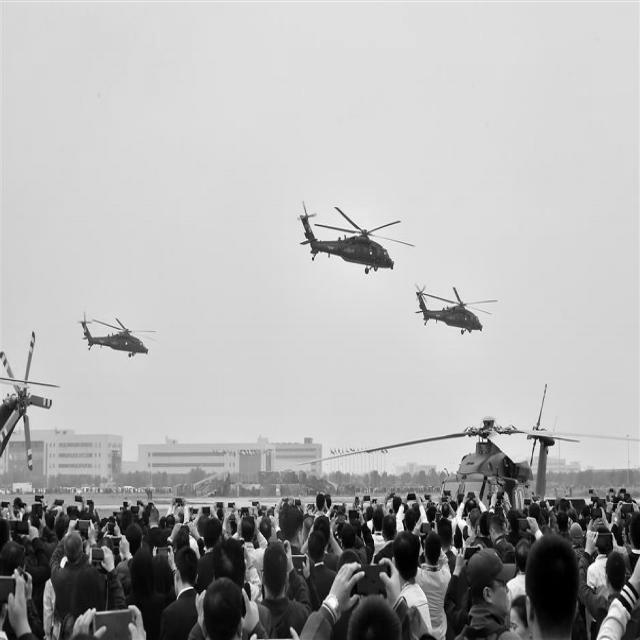helikopter: (286, 191, 404, 277), (71, 297, 173, 378), (409, 277, 506, 357)
